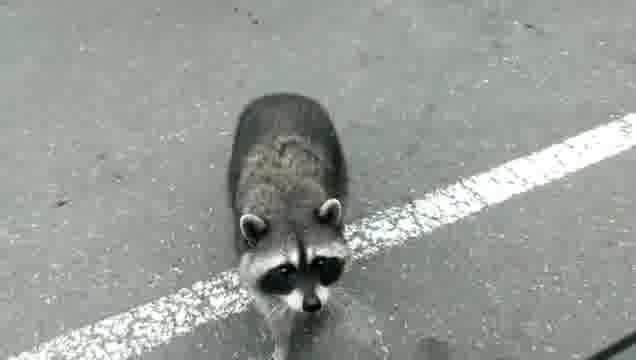raccoon: (227, 92, 354, 360)
